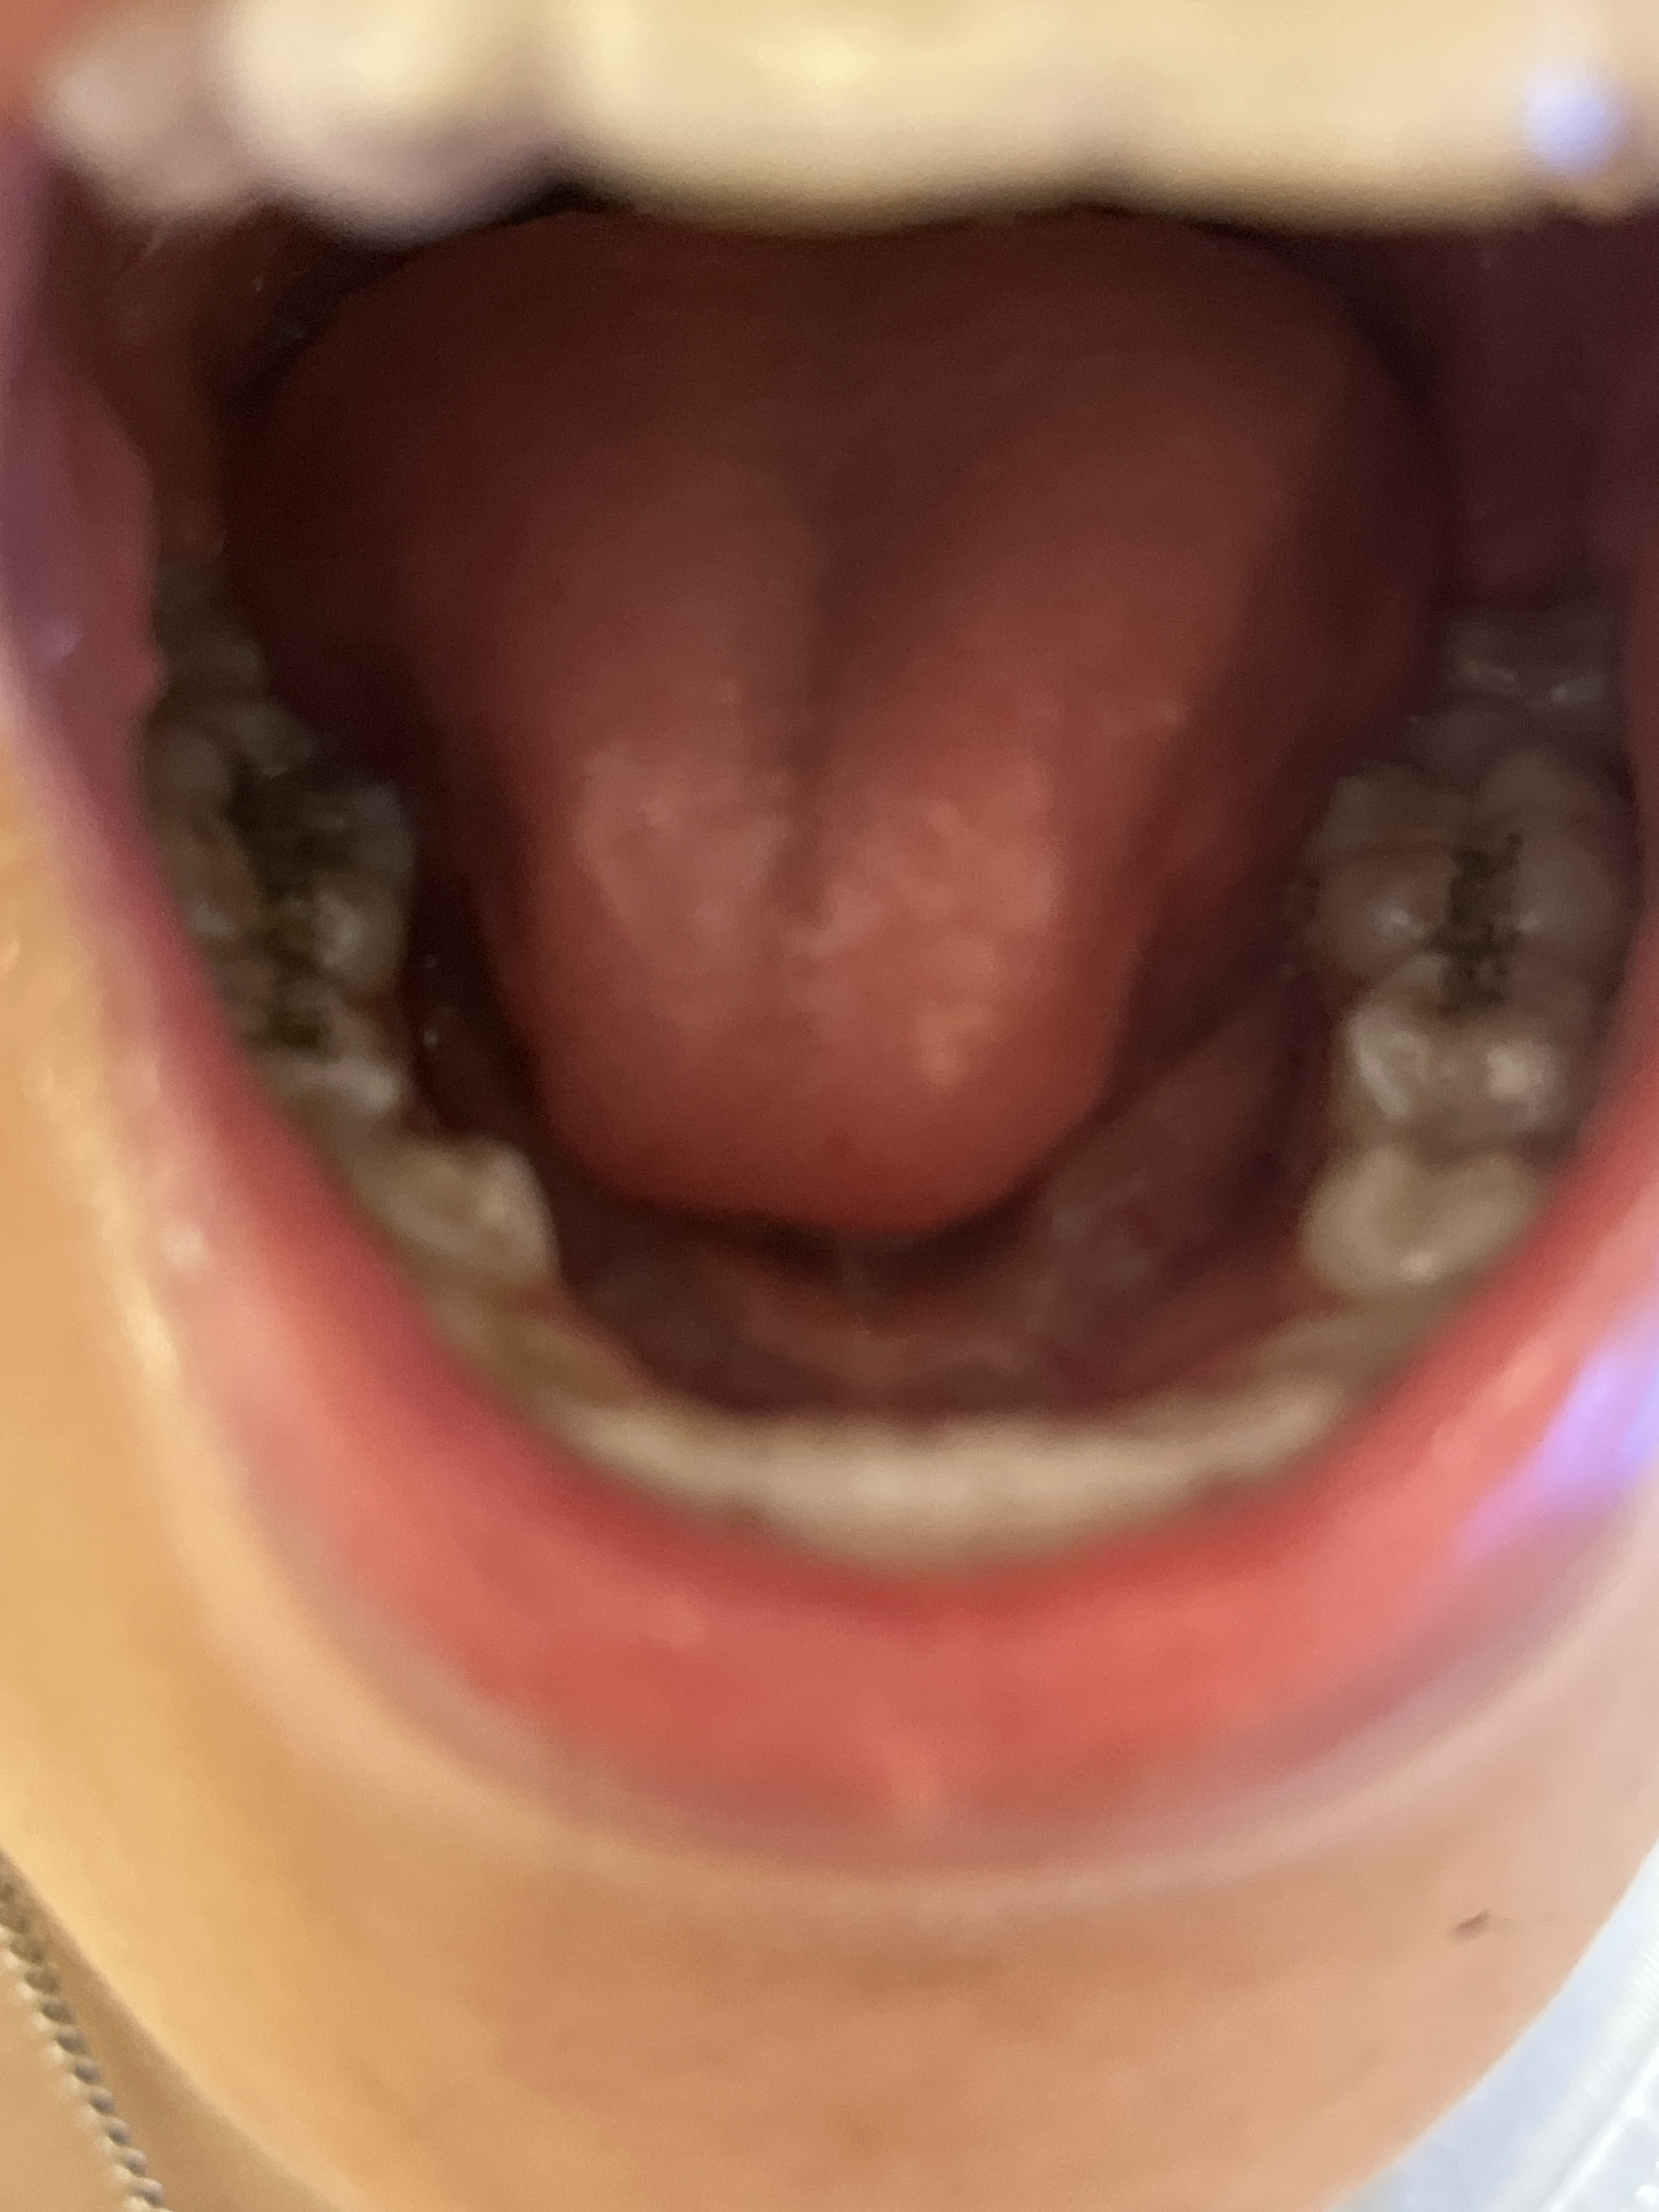teeth: (153, 686, 418, 977), (1324, 745, 1600, 954), (1359, 974, 1589, 1122), (1290, 1157, 1530, 1292), (979, 1418, 1185, 1557), (755, 1423, 971, 1554), (340, 1139, 556, 1266), (211, 956, 406, 1096), (1450, 603, 1612, 730), (559, 1383, 760, 1475), (1159, 1374, 1333, 1465), (444, 1317, 634, 1379), (1290, 1296, 1441, 1362)
